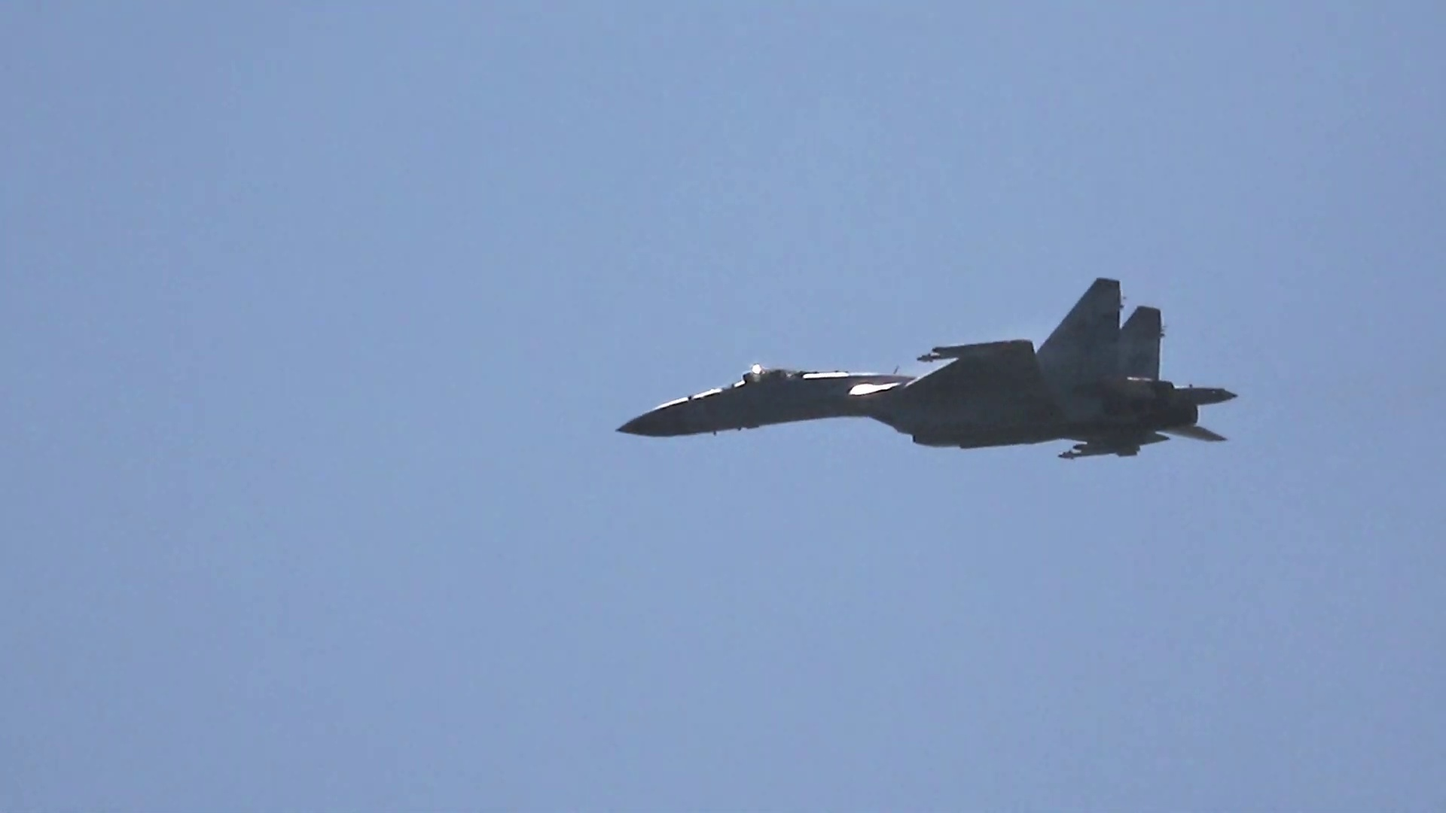Su35: (615, 277, 1239, 459)
